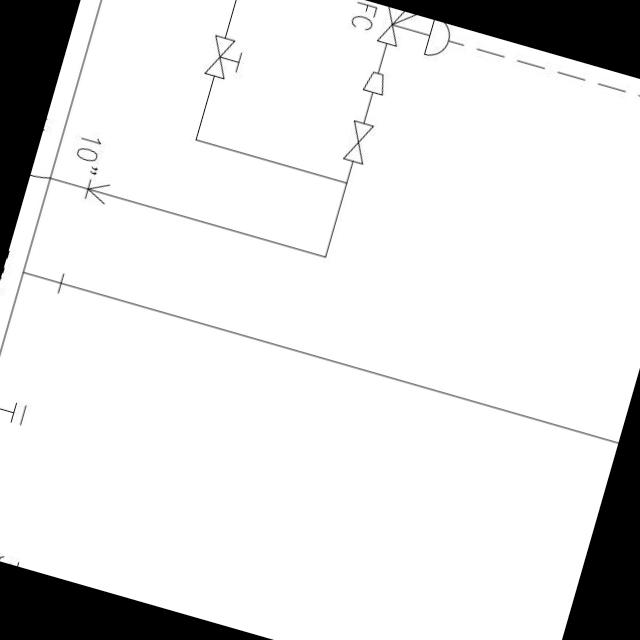FC: (366, 3, 458, 68)
GV: (337, 112, 377, 168)
HV: (197, 28, 250, 88)
SP: (358, 62, 393, 102)
